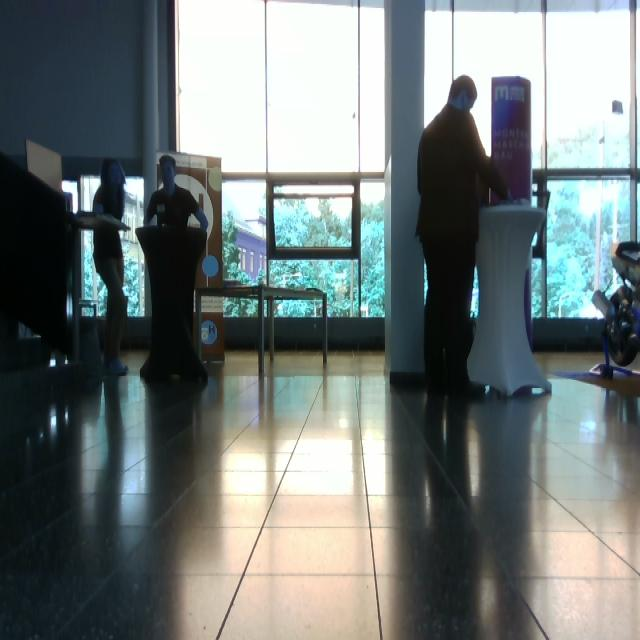light bulb: (592, 290, 615, 324), (202, 255, 219, 279), (195, 208, 209, 232), (612, 100, 624, 114)
person: (415, 75, 514, 399), (142, 155, 210, 383), (92, 158, 131, 377)
pillar: (384, 1, 427, 385)
table: (466, 201, 555, 402), (262, 284, 331, 372)
tiled floor: (2, 347, 639, 639)
window: (174, 1, 389, 322), (80, 175, 146, 319)
